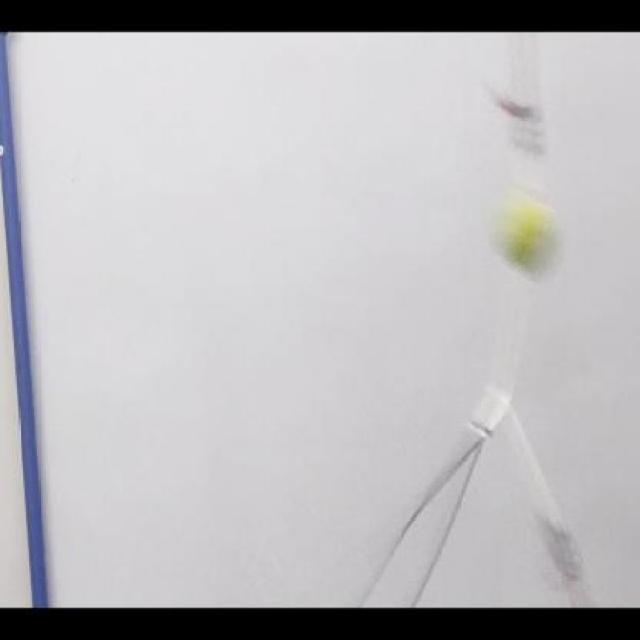baseball: (492, 177, 566, 285)
